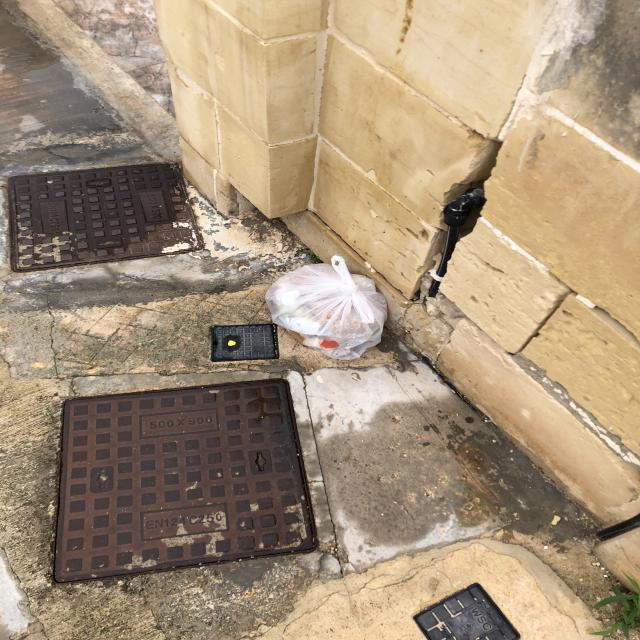Organic Waste -White Bag-: (265, 259, 387, 366)
